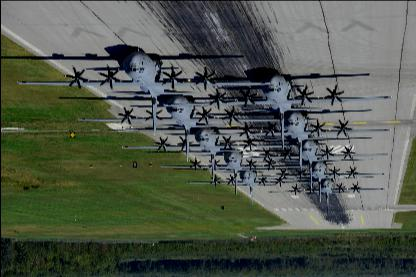Be200: (15, 48, 269, 136), (161, 69, 391, 149), (76, 94, 278, 162), (200, 110, 390, 172), (120, 127, 292, 181), (226, 139, 388, 188), (158, 148, 306, 196), (248, 158, 386, 203), (184, 168, 310, 208), (266, 176, 384, 214)
